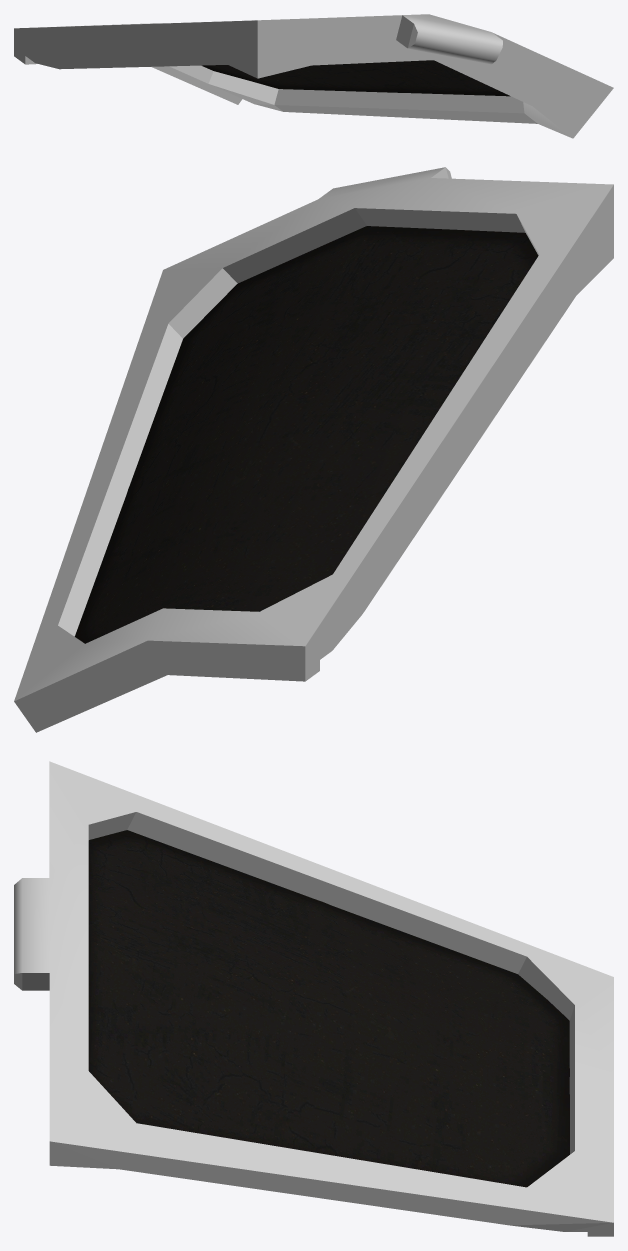
The model's file is 01_05_transporter_passenger_window_hatch02.dae.
3 views of the same model, one above another, from view 1: azimuth 30°, elevation 25°; view 2: azimuth 150°, elevation 25°; view 3: azimuth 270°, elevation 25° (orthographic). The views are drawn at different scales.
Parts seen in each view (by area): view 1: polySurface1132, window02_glass; view 2: window02_glass, polySurface1132; view 3: window02_glass, polySurface1132.
Part boxes in pixels (x1,y1,x2,y2): polySurface1132: (14, 14, 613, 138); window02_glass: (202, 60, 510, 96); window02_glass: (74, 226, 538, 643); polySurface1132: (14, 167, 613, 732); window02_glass: (88, 830, 569, 1187); polySurface1132: (14, 761, 613, 1236).
Bounding box in the file's own units: 1.45 × 1.19 × 1.83.
